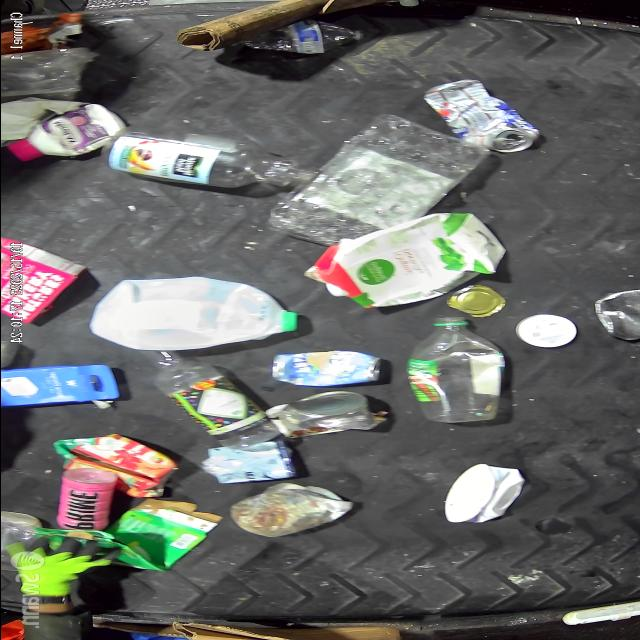can: (420, 78, 522, 150), (262, 392, 368, 432), (264, 348, 380, 384)
milk_jug: (90, 278, 296, 350)
plastic_bottle: (102, 125, 310, 187), (406, 320, 492, 420), (248, 23, 362, 58)
